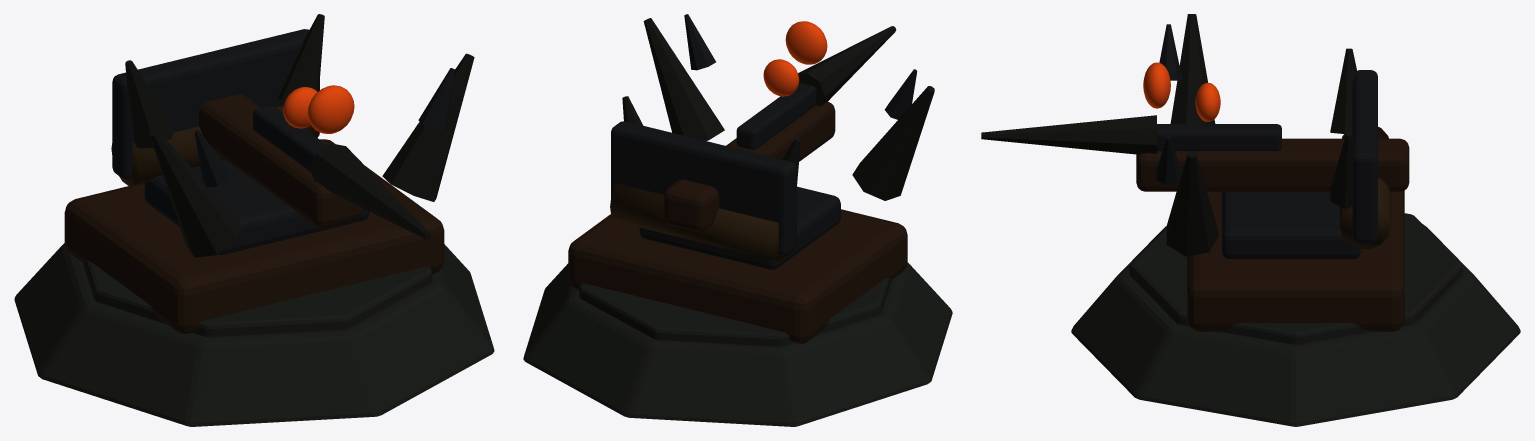
The model's file is TowerDemon3_pose.obj.
3 views of the same model, side by side, from view 1: azimuth 30°, elevation 25°; view 2: azimuth 150°, elevation 25°; view 3: azimuth 270°, elevation 25° (orthographic). The views are drawn at different scales.
Parts seen in each view (by area): view 1: charred_stone_footing_lower_course, dark_oak_altar_bed, iron_horn_mantle, charred_stone_footing_upper_course, demon_stock, black_iron_pivot, bone_bow_limb, bone_bow_limb.001, bone_demon_bolt, iron_demon_guide, altar_horn, bronze_blood_winch (+5 smaller); view 2: charred_stone_footing_lower_course, dark_oak_altar_bed, iron_horn_mantle, charred_stone_footing_upper_course, bronze_blood_winch, demon_stock, bone_bow_limb, bone_bow_limb.001, black_iron_pivot, bone_demon_bolt, iron_demon_guide, apex_demon_ember (+3 smaller); view 3: charred_stone_footing_lower_course, dark_oak_altar_bed, charred_stone_footing_upper_course, demon_stock, black_iron_pivot, iron_horn_mantle, bone_demon_bolt, bone_bow_limb.001, iron_demon_guide, bone_bow_limb, bronze_blood_winch, altar_horn (+5 smaller).
Boxes of the visible parts, x1=… form: charred_stone_footing_lower_course: x1=14, y1=243, x2=494, y2=426; dark_oak_altar_bed: x1=64, y1=139, x2=444, y2=333; iron_horn_mantle: x1=112, y1=29, x2=319, y2=179; charred_stone_footing_upper_course: x1=83, y1=260, x2=432, y2=337; demon_stock: x1=199, y1=94, x2=363, y2=227; black_iron_pivot: x1=144, y1=159, x2=369, y2=254; bone_bow_limb: x1=149, y1=129, x2=239, y2=257; bone_bow_limb.001: x1=382, y1=53, x2=474, y2=201; bone_demon_bolt: x1=310, y1=143, x2=431, y2=239; iron_demon_guide: x1=253, y1=105, x2=327, y2=171; altar_horn: x1=125, y1=60, x2=174, y2=148; bronze_blood_winch: x1=111, y1=106, x2=319, y2=185; charred_stone_footing_lower_course: x1=523, y1=262, x2=952, y2=426; dark_oak_altar_bed: x1=568, y1=209, x2=907, y2=343; iron_horn_mantle: x1=611, y1=121, x2=796, y2=255; charred_stone_footing_upper_course: x1=579, y1=277, x2=891, y2=346; bronze_blood_winch: x1=610, y1=183, x2=797, y2=261; demon_stock: x1=663, y1=101, x2=835, y2=231; bone_bow_limb: x1=852, y1=86, x2=934, y2=200; bone_bow_limb.001: x1=643, y1=18, x2=724, y2=140; black_iron_pivot: x1=639, y1=186, x2=840, y2=269; bone_demon_bolt: x1=798, y1=26, x2=896, y2=106; iron_demon_guide: x1=736, y1=83, x2=816, y2=149; apex_demon_ember: x1=785, y1=21, x2=827, y2=64; charred_stone_footing_lower_course: x1=1071, y1=224, x2=1520, y2=426; dark_oak_altar_bed: x1=1187, y1=190, x2=1404, y2=331; charred_stone_footing_upper_course: x1=1129, y1=213, x2=1462, y2=344; demon_stock: x1=1136, y1=138, x2=1409, y2=191; black_iron_pivot: x1=1222, y1=191, x2=1360, y2=258; iron_horn_mantle: x1=1352, y1=70, x2=1377, y2=243; bone_demon_bolt: x1=981, y1=115, x2=1156, y2=154; bone_bow_limb.001: x1=1166, y1=151, x2=1219, y2=256; iron_demon_guide: x1=1157, y1=124, x2=1281, y2=150; bone_bow_limb: x1=1170, y1=14, x2=1215, y2=123; bronze_blood_winch: x1=1340, y1=127, x2=1390, y2=248; altar_horn: x1=1330, y1=48, x2=1357, y2=133.
Size of the model in its own units: 1.94 by 1.28 by 2.33.
